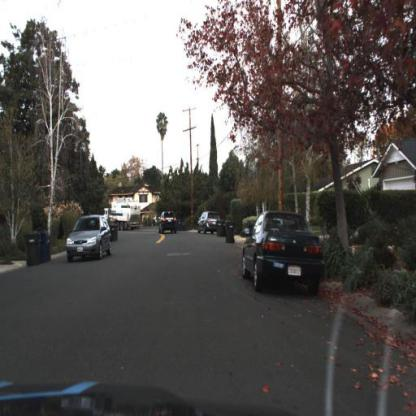car: (242, 212, 328, 300), (67, 215, 113, 263), (197, 208, 223, 233), (196, 210, 221, 235), (158, 210, 177, 235)
truck: (103, 196, 143, 232), (103, 197, 141, 233)
